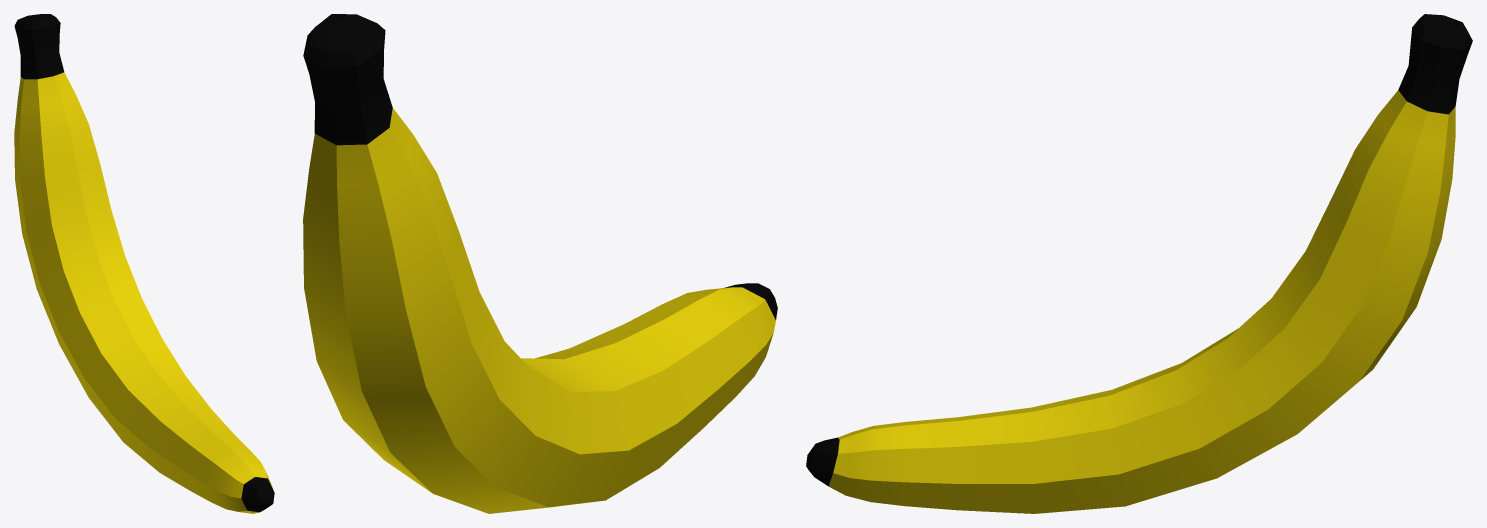
The model's file is Banana.fbx.
3 views of the same model, side by side, from view 1: azimuth 30°, elevation 25°; view 2: azimuth 150°, elevation 25°; view 3: azimuth 270°, elevation 25° (orthographic). The views are drawn at different scales.
Parts seen in each view (by area): view 1: Banana; view 2: Banana; view 3: Banana.
Part boxes in pixels (x1,y1,x2,y2): Banana: (14, 14, 274, 513); Banana: (303, 14, 777, 513); Banana: (806, 14, 1472, 513).
Size of the model in its own units: 166 by 675 by 833.
